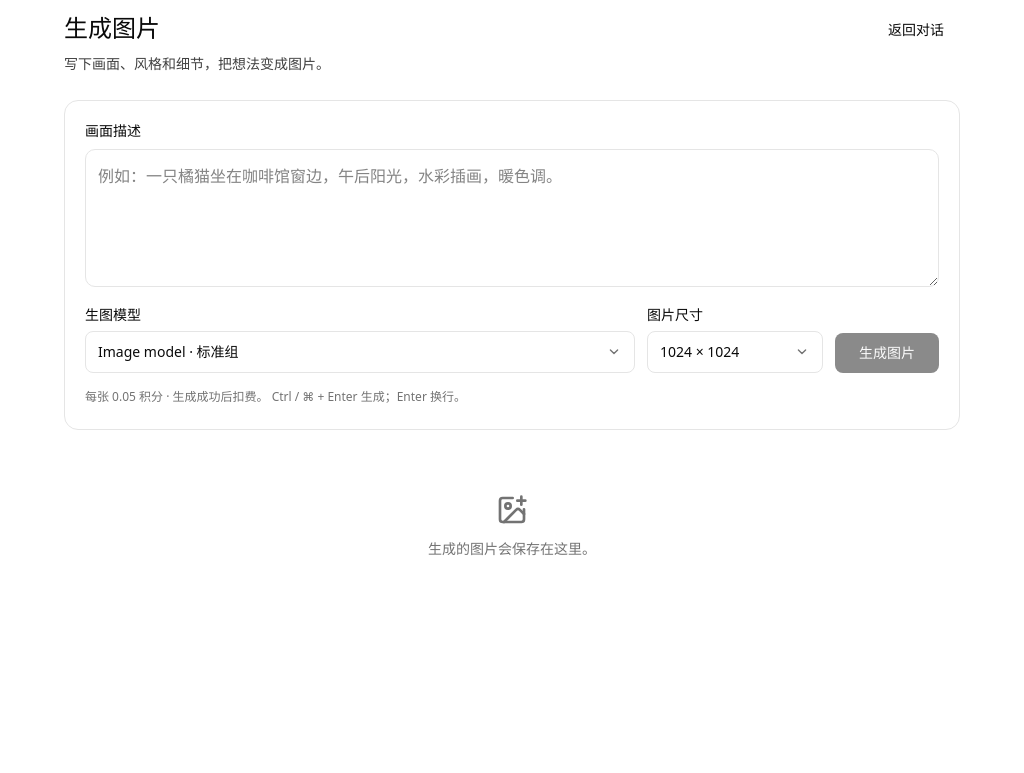
Test: image generation interaction › retains a rejected prompt and permits editing another request
Type "水彩画，一只坐在窗边的猫" into the text box.
click(512, 218); type("水彩画，一只坐在窗边的猫")  # box [85, 149, 939, 287]
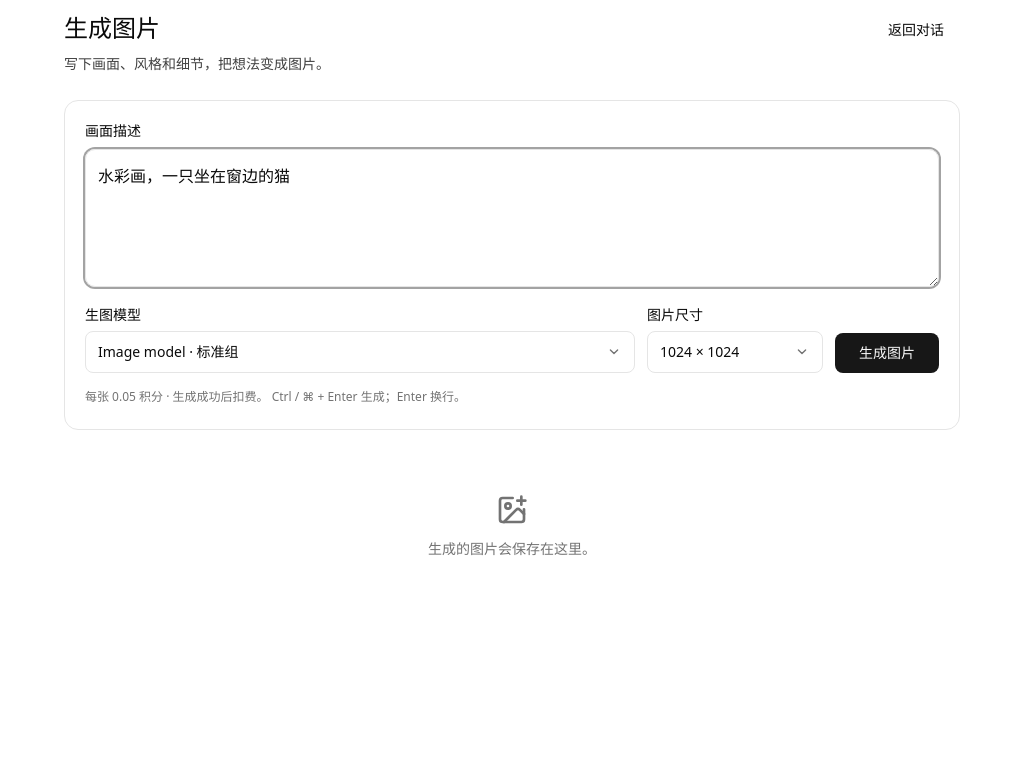
Click the button "生成图片".
click(887, 353)  # box [835, 333, 939, 373]
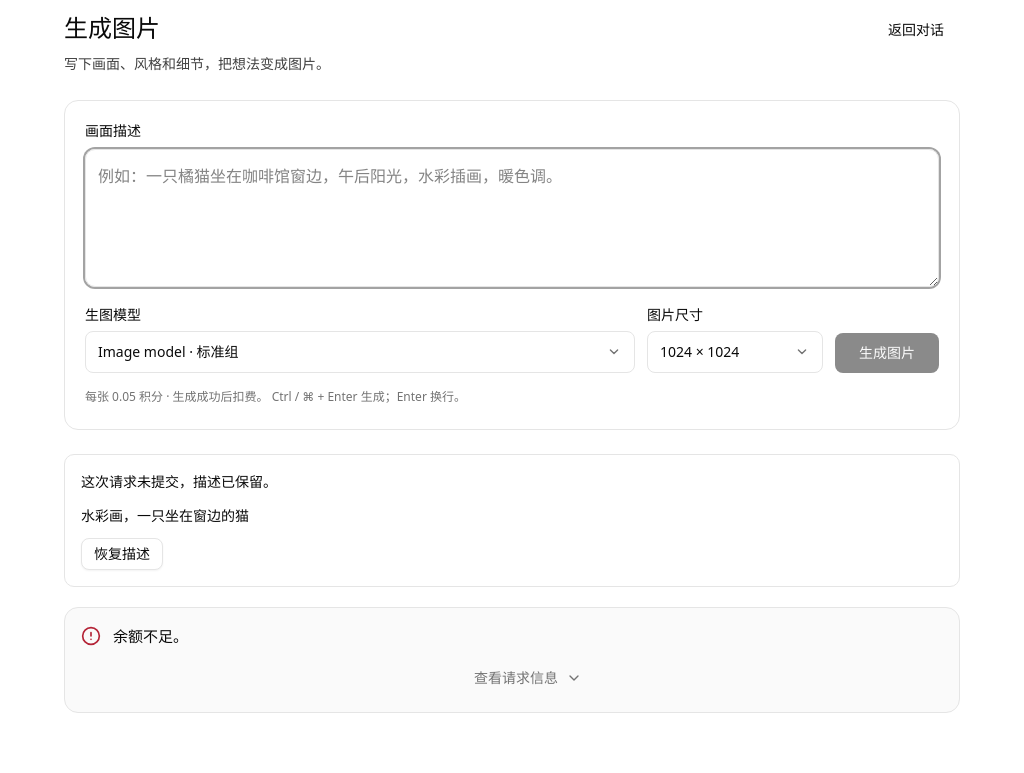
Click the button "恢复描述".
click(122, 554)  # box [81, 538, 163, 570]
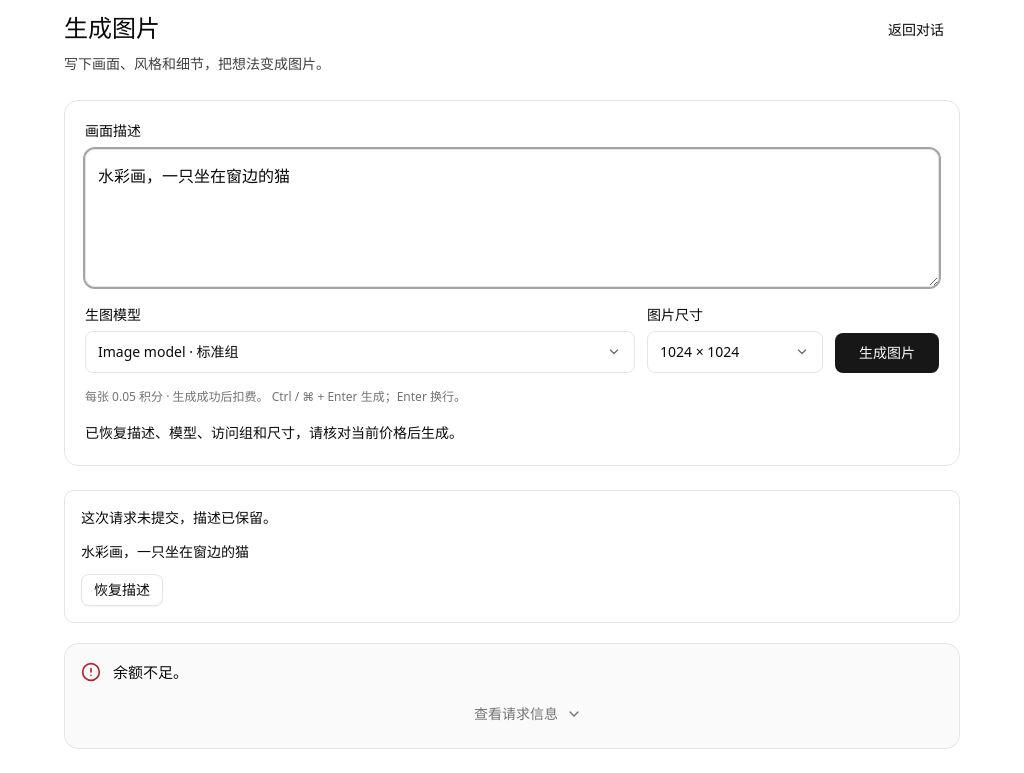
Now the button "生成图片" is enabled, box [835, 333, 939, 373]
